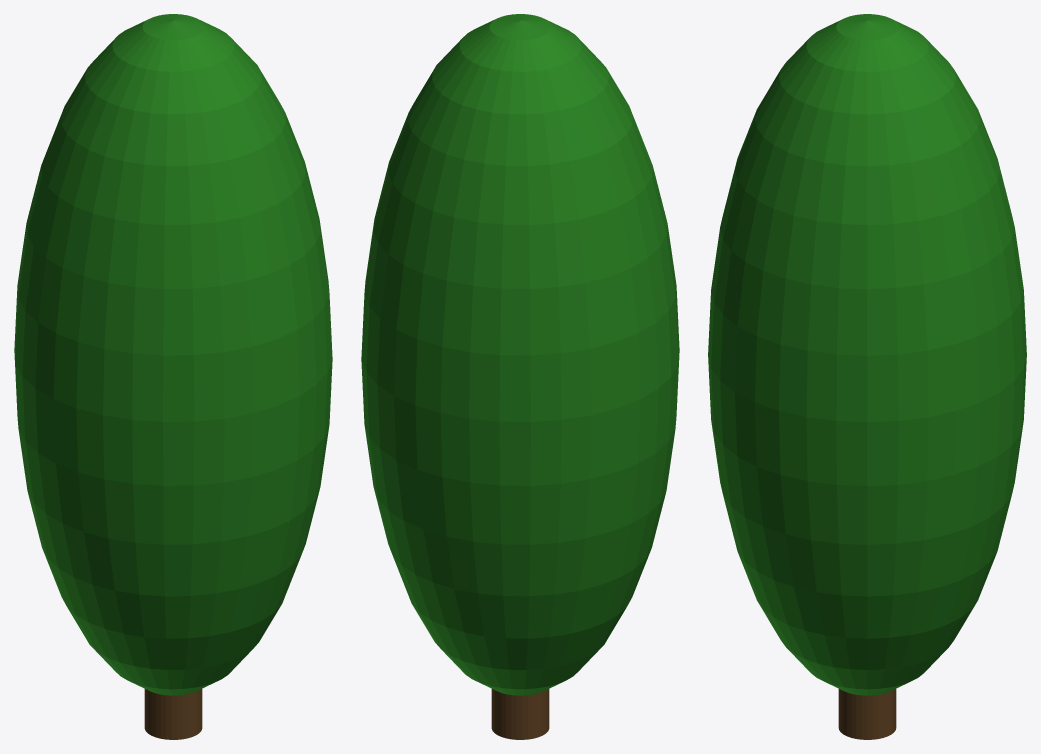
File: дерево.fbx
The picture shows the model from 3 angles, left to right: view 1: azimuth 30°, elevation 25°; view 2: azimuth 150°, elevation 25°; view 3: azimuth 270°, elevation 25°; orthographic projection.
Parts seen in each view (by area): view 1: Sphere, Cylinder; view 2: Sphere, Cylinder; view 3: Sphere, Cylinder.
Part boxes in pixels (bbox=[...]): Sphere: bbox=[14, 14, 332, 695]; Cylinder: bbox=[144, 689, 202, 739]; Sphere: bbox=[361, 14, 679, 695]; Cylinder: bbox=[491, 689, 549, 739]; Sphere: bbox=[708, 14, 1026, 695]; Cylinder: bbox=[838, 689, 896, 739].
Bounding box in the file's own units: 200 × 489 × 200.
